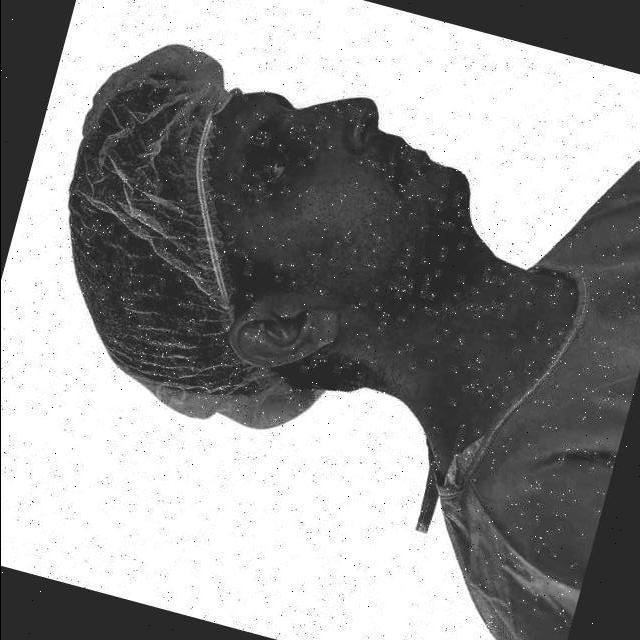gloves: (76, 26, 230, 413)
no_hairnet: (319, 118, 430, 248)
